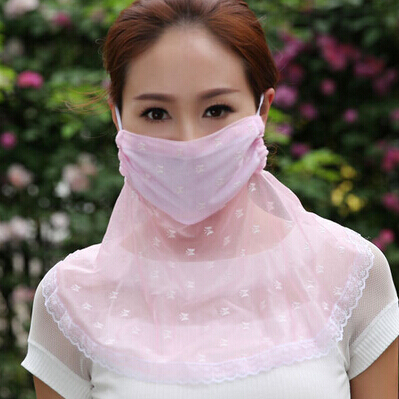face_mask: (121, 33, 256, 216)
